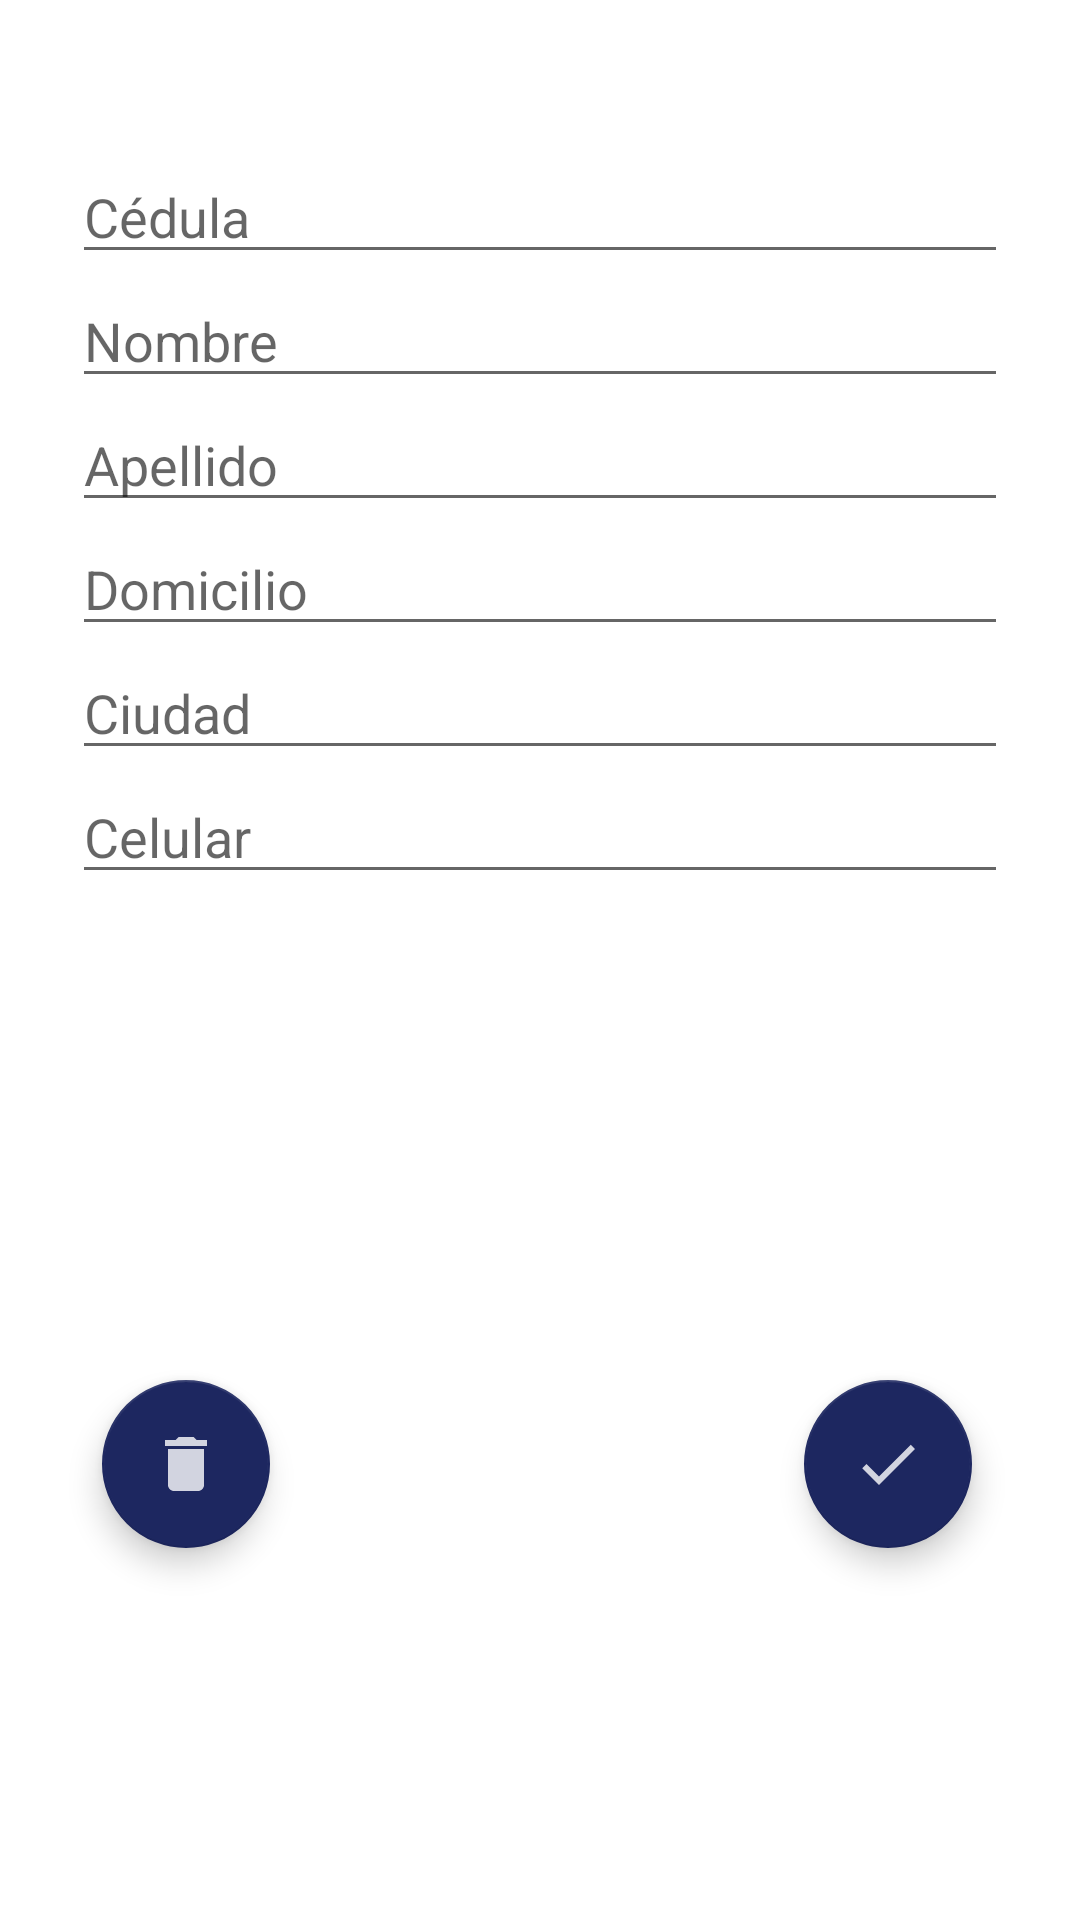

Where icons sit on this 1080w x 1920h app screen, as (x1, y1, x2, y2):
check: (804, 1380, 972, 1548)
delete: (102, 1380, 270, 1548)
